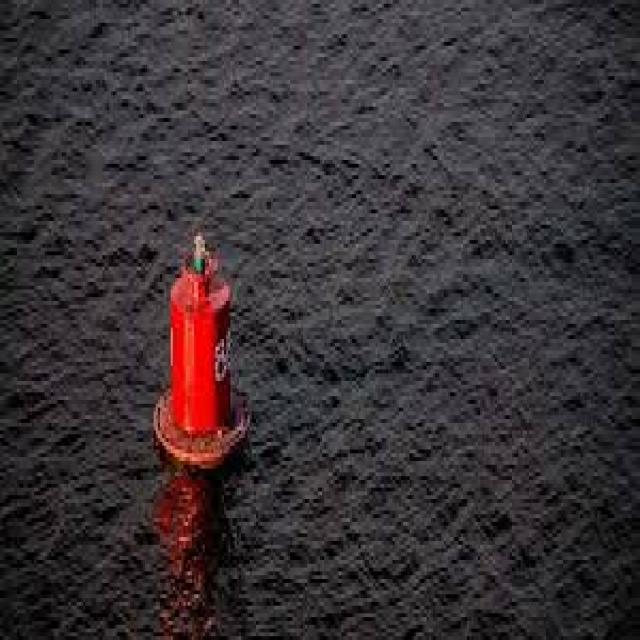marque: (151, 210, 258, 481)
